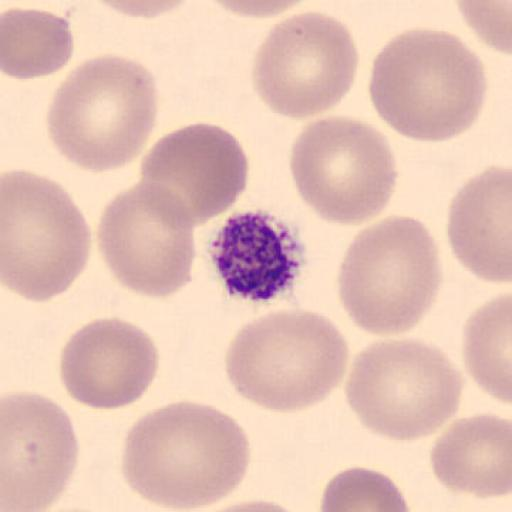Platelet: (207, 207, 311, 305)
RBC: (119, 398, 252, 512), (368, 25, 490, 144), (46, 52, 160, 174), (224, 308, 352, 414), (336, 213, 444, 337), (343, 336, 466, 443), (288, 114, 400, 228), (250, 9, 362, 121), (95, 180, 198, 300), (3, 168, 92, 305), (138, 121, 250, 225), (58, 315, 161, 411), (2, 389, 80, 511), (445, 165, 512, 284), (429, 411, 512, 500), (461, 290, 512, 407), (2, 6, 75, 80), (318, 464, 412, 512), (453, 0, 512, 53), (199, 0, 313, 20), (90, 0, 198, 20), (190, 496, 312, 512), (32, 503, 110, 512)
